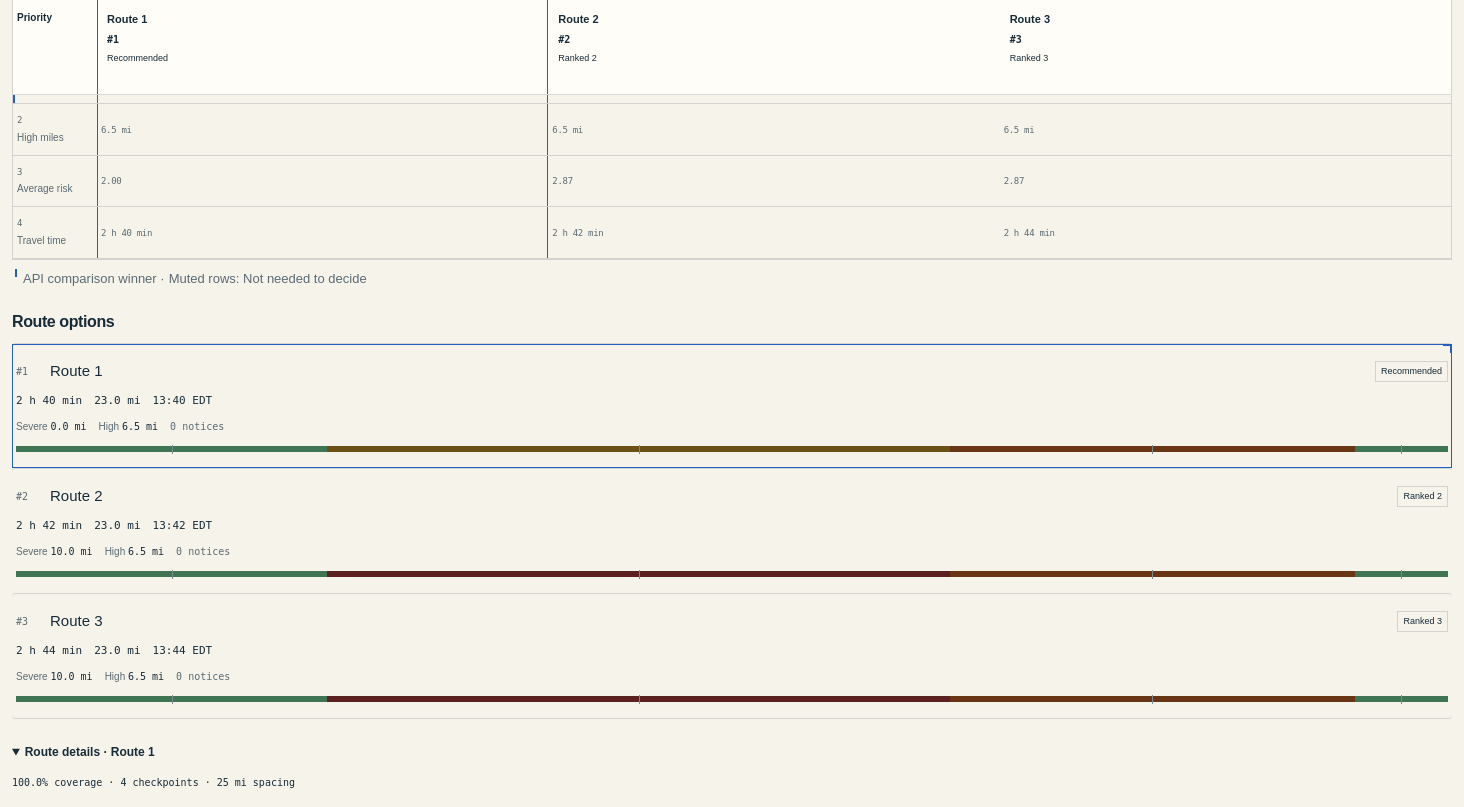
Test case: radio keys wrap, Home/End/Space/Enter select and update matrix plus details
(page scrolled)
Press End in the radio button that starts with "Route 1", box [12,343,1452,468]
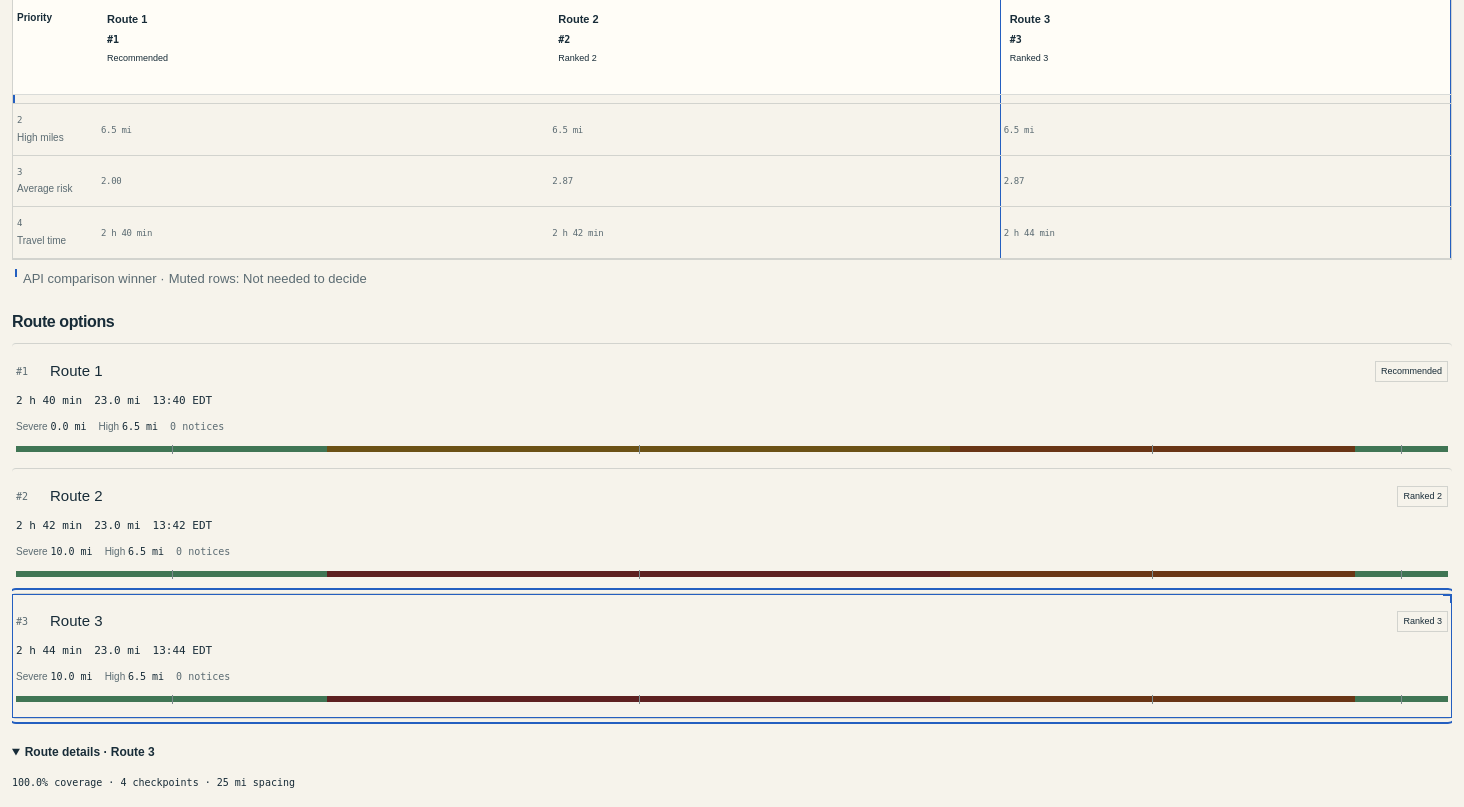
Expected: the column heading with class "is-selected" shows "Route 3", [1004,10,1447,84]
Press ArrowRight in the radio button that starts with "Route 3", box [12,593,1452,719]
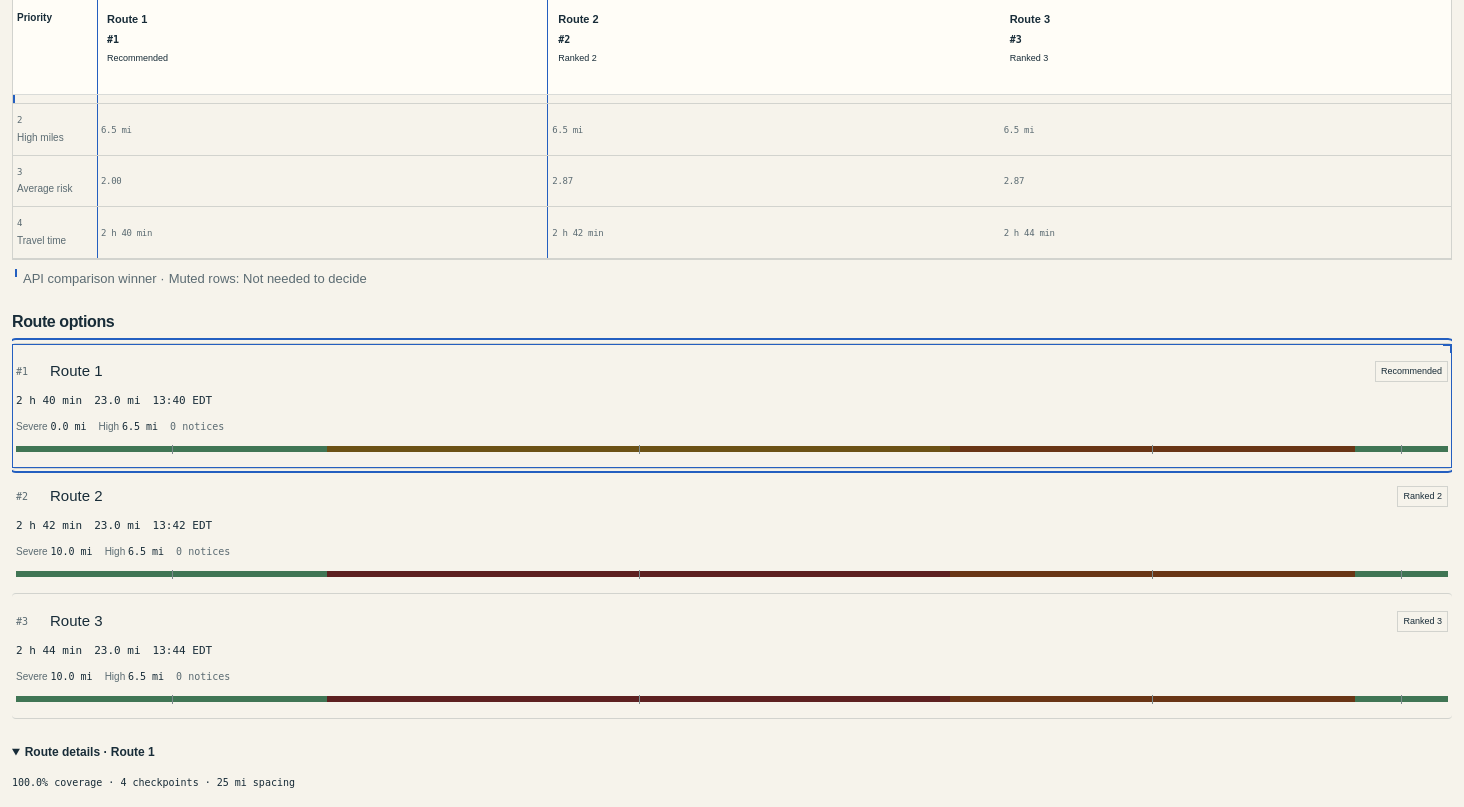
Press Home in the radio button that starts with "Route 1", box [12,343,1452,468]
Click the radio button that starts with "Route 2" at (732, 531), box [12,468,1452,593]
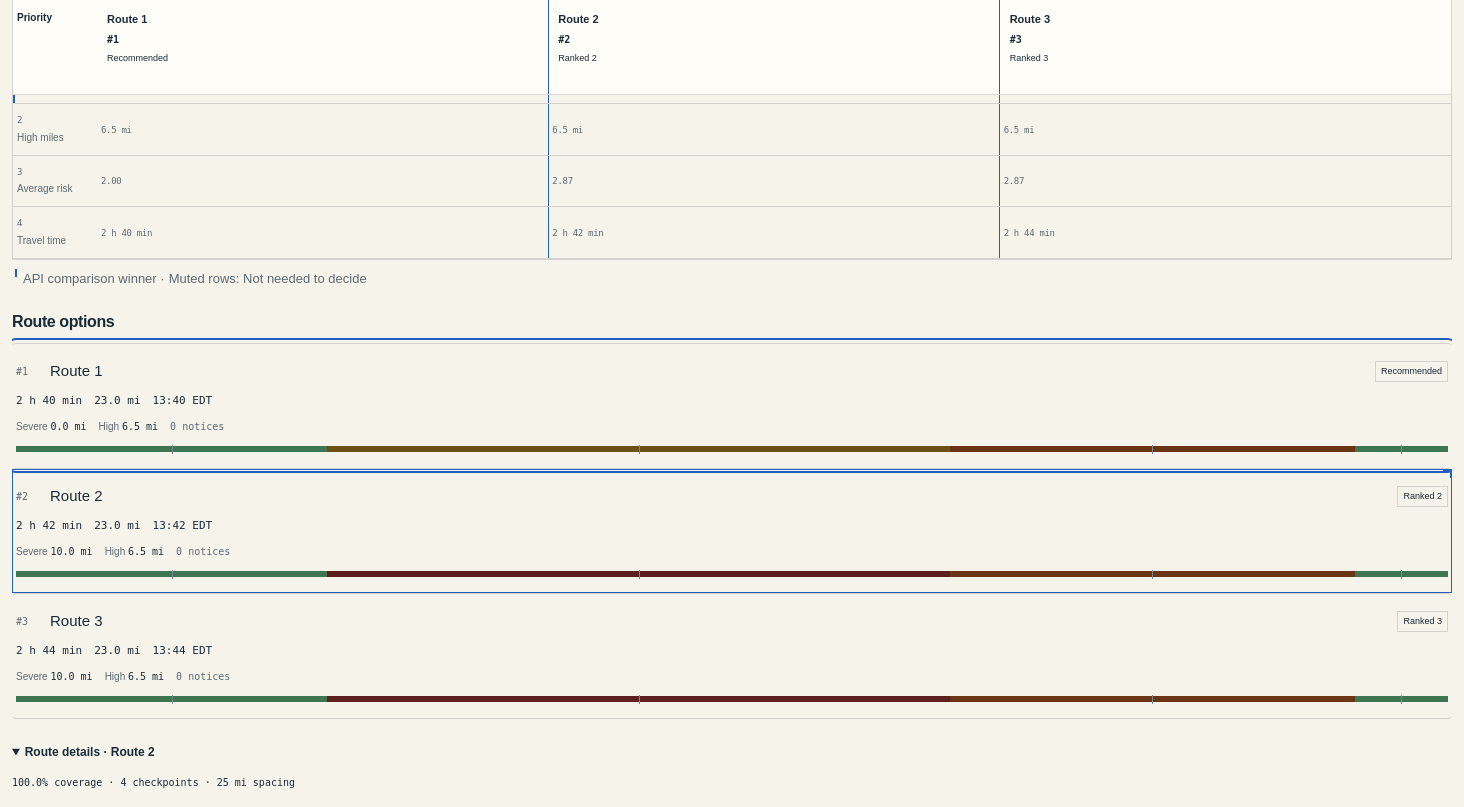
Expected: the heading "Route details · Route 2" is shown, [25,745,155,759]
